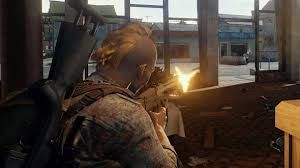Gun: (155, 67, 197, 99)
